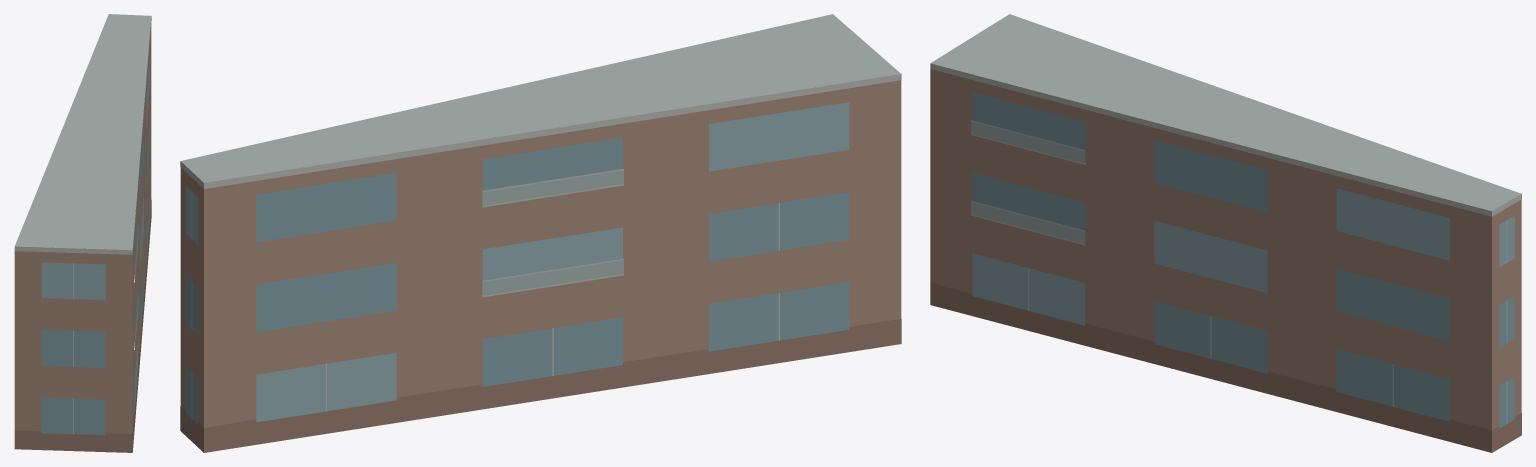
File: survey-upis-33019276.glb
3 views of the same model, side by side, from view 1: azimuth 30°, elevation 25°; view 2: azimuth 150°, elevation 25°; view 3: azimuth 270°, elevation 25° (orthographic). The views are drawn at different scales.
Parts seen in each view (by area): view 1: survey-upis-33019276.tmp; view 2: survey-upis-33019276.tmp; view 3: survey-upis-33019276.tmp.
Part boxes in pixels (bbox=[...]): survey-upis-33019276.tmp: bbox=[14, 14, 151, 452]; survey-upis-33019276.tmp: bbox=[180, 14, 901, 452]; survey-upis-33019276.tmp: bbox=[930, 14, 1521, 452].
Bounding box in the file's own units: 18.76 × 10.71 × 23.77.
